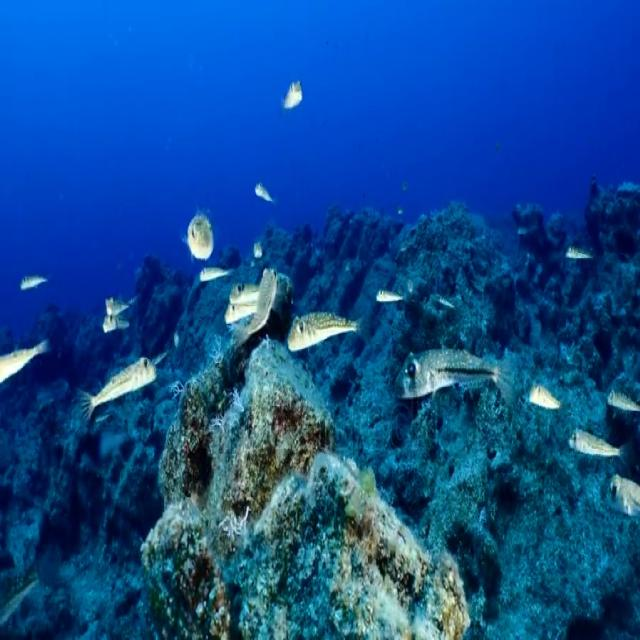Balon Baligi: (84, 342, 156, 423), (394, 350, 502, 403), (288, 299, 357, 354), (174, 196, 222, 266), (246, 258, 278, 341), (598, 364, 640, 425), (568, 422, 625, 466), (521, 366, 565, 416), (276, 63, 304, 121), (98, 282, 143, 318), (85, 304, 138, 334), (374, 278, 405, 308), (566, 240, 593, 274)
